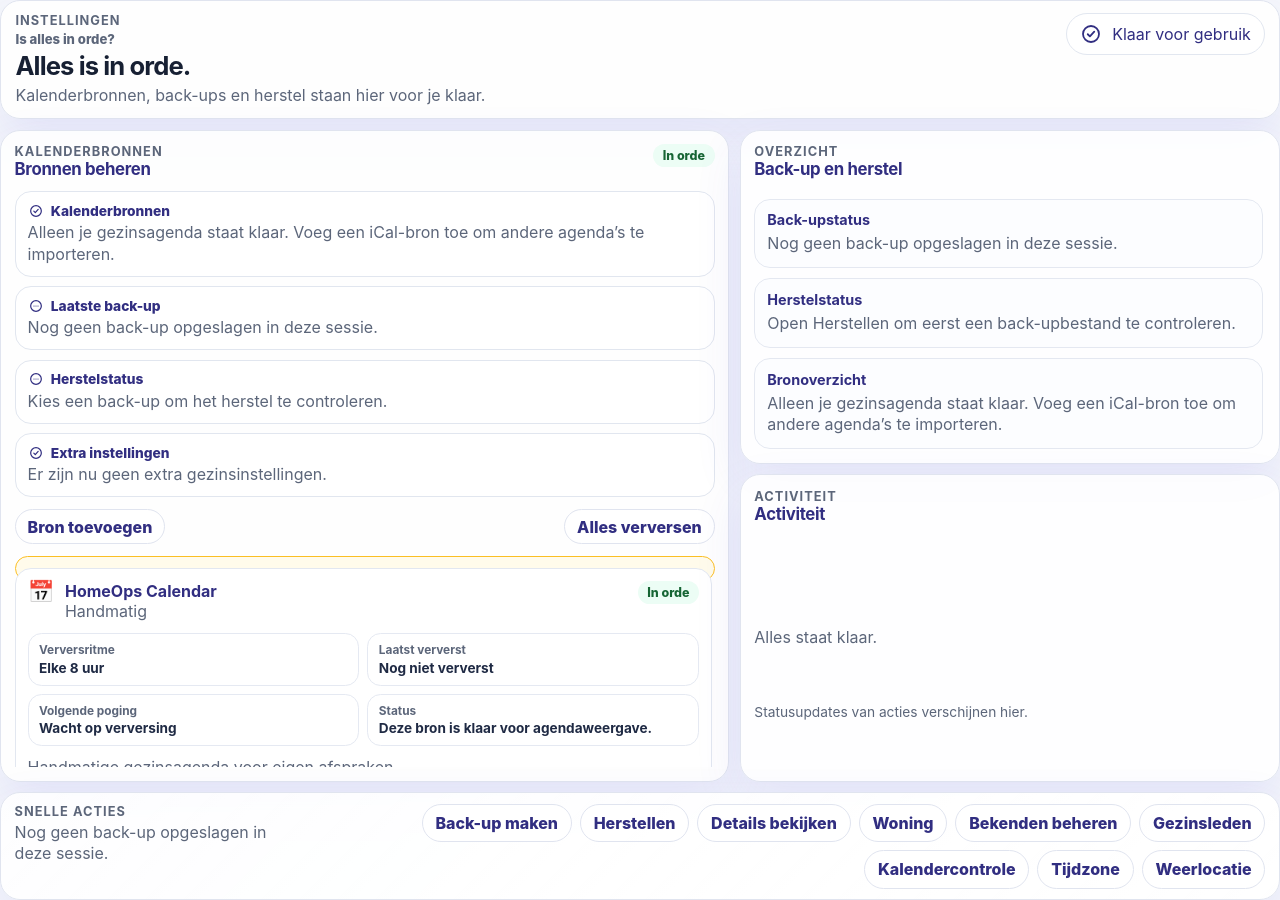
it: SettingsDashboard › shows a status-first dashboard while keeping restore contextual
Expected: the text "Is alles in orde?" is shown, [15, 31, 115, 47]
Expected: the heading "Alles is in orde." is shown, [15, 50, 190, 81]
Click the button "Herstellen" at coordinates (635, 823), box [580, 804, 689, 842]
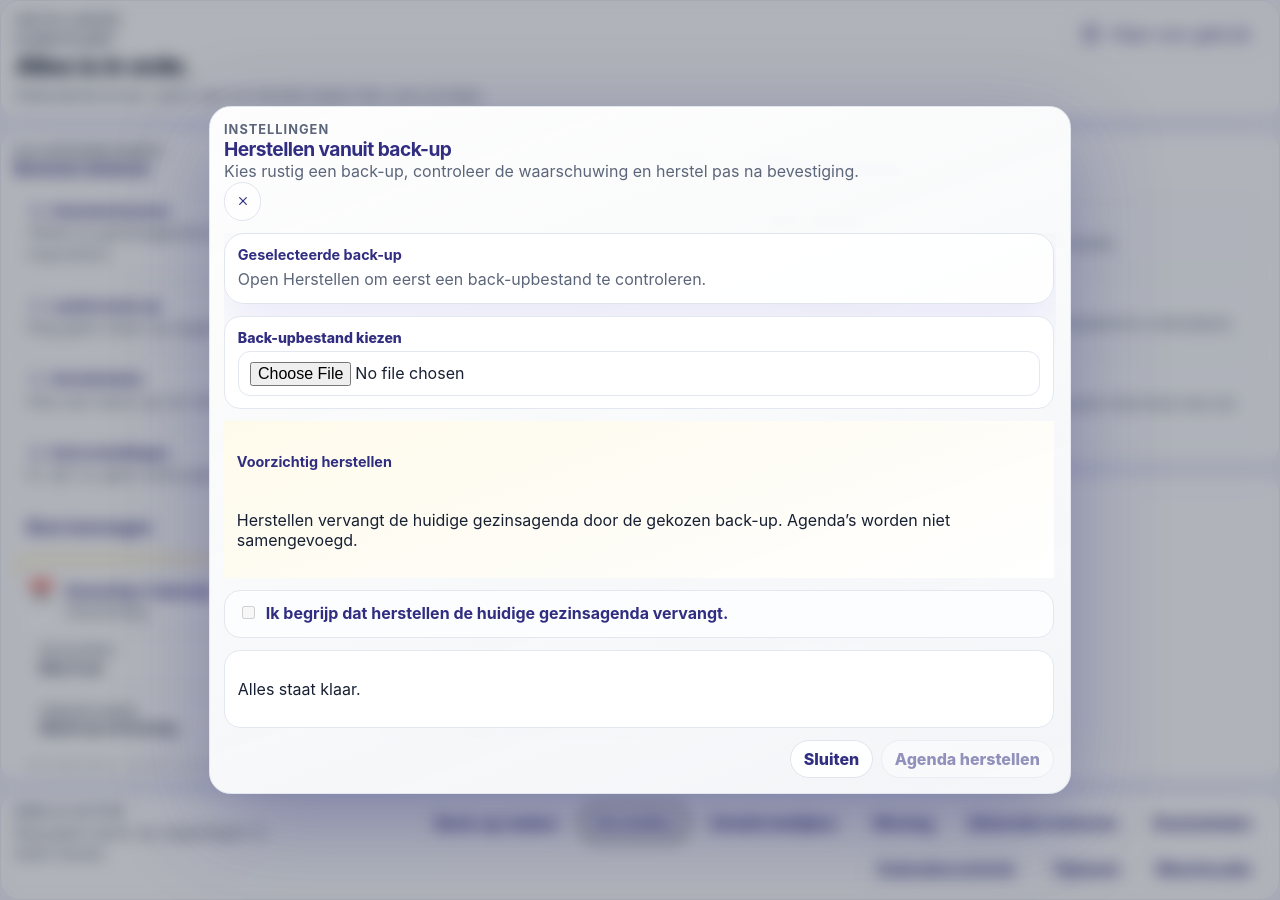
Now the file field labelled "Back-upbestand kiezen" is shown, box [238, 351, 1040, 396]
Now the text "Herstellen vervangt de huidige gezinsagenda" is shown, box [237, 510, 950, 550]
